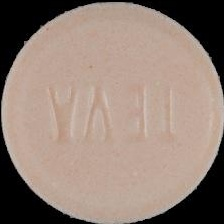67046-273: (0, 0, 224, 224)
